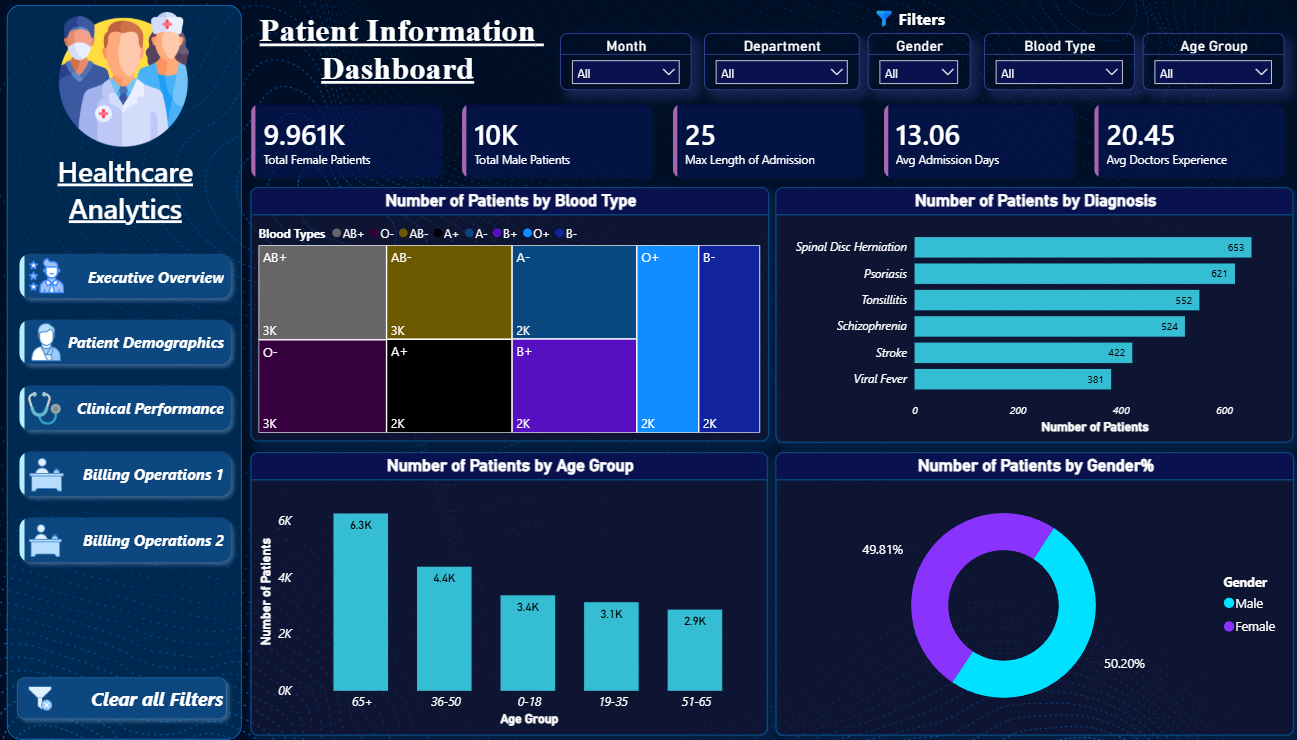

The dashboard page shown, as its layout file describes it:
{"tool":"powerbi","page":{"name":"Patient Demographics","canvas":[1500,860],"ordinal":1},"visuals":[{"type":"group","id":"g1","title":"Group 2","box":[0,0,288.9,865.2],"z":0,"group":"g5"},{"type":"shape","box":[0,0,288.9,865.2],"z":0,"group":"g1"},{"type":"group","id":"g2","title":"Group 4","box":[626.7,0,874.1,125.3],"z":0,"group":"g4"},{"type":"group","id":"g3","title":"Group 3","box":[626.7,0,874.1,125.3],"z":0,"group":"g2"},{"type":"shape","box":[626.7,0,874.1,125.3],"z":0,"group":"g3"},{"type":"cardVisual","fields":{"Data":["measures_.Total Female Patients","measures_.Total Male Patients","measures_.Max LOS","measures_.Avg Admission Days","measures_.Avg Doctors Experience"]},"box":[273.6,107,1225.9,119.2],"z":0},{"type":"pageNavigator","box":[13.9,287.4,262.3,374.7],"z":0,"group":"g6"},{"type":"group","id":"g4","title":"Group 5","box":[626.7,0,874.3,125.3],"z":1000},{"type":"textbox","box":[633.8,6.7,859.3,41.6],"z":1000,"group":"g2"},{"type":"image","box":[1001.5,16.2,37.4,18.7],"z":1000,"group":"g4"},{"type":"image","box":[58.1,16.6,172.7,155.2],"z":1000,"group":"g1"},{"type":"slicer","title":"Department","fields":{"Values":["admissions.department"]},"box":[812,41.3,179,65.3],"z":1000,"group":"g3"},{"type":"image","box":[30.6,300.7,46.7,43.3],"z":1000,"group":"g6"},{"type":"actionButton","box":[12.2,774.8,259.9,66.2],"z":1000,"group":"g5"},{"type":"group","id":"g5","title":"Group 6","box":[0,0,288.9,865.2],"z":2000},{"type":"slicer","title":"Gender","fields":{"Values":["patients.gender"]},"box":[1001.5,41.3,118.2,65.3],"z":2000,"group":"g3"},{"type":"textbox","box":[16.7,168.3,256.7,116.7],"z":2000,"group":"g1"},{"type":"image","box":[29.6,375.8,48.9,46.7],"z":2000,"group":"g6"},{"type":"image","box":[24.5,793.4,45.4,28.5],"z":2000,"group":"g5"},{"type":"textbox","box":[285.7,0,348.6,125.7],"z":3000},{"type":"slicer","title":"Age Group","fields":{"Values":["patients.age_group"]},"box":[1318.3,41.3,162.9,65.3],"z":3000,"group":"g3"},{"type":"image","box":[30.6,530.7,46.7,41.1],"z":3000,"group":"g6"},{"type":"slicer","title":"Blood Type","fields":{"Values":["patients.bloodtype"]},"box":[1135.1,41.3,173.4,65.3],"z":4000,"group":"g3"},{"type":"treemap","title":"Number of Patients by Blood Type","fields":{"Values":["measures_.Total Patients"],"Group":["patients.bloodtype"]},"box":[289.6,219,598,294],"z":4000},{"type":"image","box":[30,606.6,46.7,40],"z":4000,"group":"g6"},{"type":"slicer","title":"Month","fields":{"Values":["Calendar.Month"]},"box":[647,41.3,151.1,65.3],"z":5000,"group":"g3"},{"type":"clusteredBarChart","title":"Number of Patients by Diagnosis","fields":{"Category":["admissions.diagnosis"],"Y":["CountNonNull(admissions.patientid)"]},"box":[895.4,219.1,597.4,295],"z":5000},{"type":"image","box":[28.9,456.6,47.8,37.8],"z":5000,"group":"g6"},{"type":"columnChart","title":"Number of Patients by Age Group","fields":{"Category":["patients.age_group"],"Y":["CountNonNull(patients.patientid)"]},"box":[289.6,524.5,596.6,327.1],"z":6000},{"type":"donutChart","title":"Number of Patients by Gender%","fields":{"Category":["patients.gender"],"Y":["measures_.Total Patients"]},"box":[894.9,524.5,598,327.1],"z":7000},{"type":"group","id":"g6","title":"Group 1","box":[13.9,287.4,262.3,374.7],"z":8000}]}

Visuals, with their boxes in screenshot pixels (x1, y1, x2, y2), scaled from the page's 1500x860 canvas onto the 1297x740 screenshot:
"Group 2" group: region(0, 0, 250, 739)
shape: region(0, 0, 250, 739)
"Group 4" group: region(542, 0, 1296, 108)
"Group 3" group: region(542, 0, 1296, 108)
shape: region(542, 0, 1296, 108)
cardVisual - measures_.Total Female Patients x measures_.Total Male Patients: region(237, 92, 1296, 195)
pageNavigator: region(12, 247, 239, 570)
"Group 5" group: region(542, 0, 1296, 108)
textbox: region(548, 6, 1291, 42)
image: region(866, 14, 898, 30)
image: region(50, 14, 200, 148)
"Department" slicer: region(702, 36, 857, 92)
image: region(26, 259, 67, 296)
actionButton: region(11, 667, 235, 724)
"Group 6" group: region(0, 0, 250, 739)
"Gender" slicer: region(866, 36, 968, 92)
textbox: region(14, 145, 236, 245)
image: region(26, 323, 68, 364)
image: region(21, 683, 60, 707)
textbox: region(247, 0, 548, 108)
"Age Group" slicer: region(1140, 36, 1281, 92)
image: region(26, 457, 67, 492)
"Blood Type" slicer: region(981, 36, 1131, 92)
"Number of Patients by Blood Type" treemap: region(250, 188, 767, 441)
image: region(26, 522, 66, 556)
"Month" slicer: region(559, 36, 690, 92)
"Number of Patients by Diagnosis" clusteredBarChart: region(774, 189, 1291, 442)
image: region(25, 393, 66, 425)
"Number of Patients by Age Group" columnChart: region(250, 451, 766, 733)
"Number of Patients by Gender%" donutChart: region(774, 451, 1291, 733)
"Group 1" group: region(12, 247, 239, 570)
